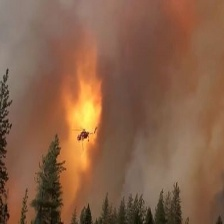fire: (69, 99, 108, 144)
smoke: (2, 3, 221, 217)
